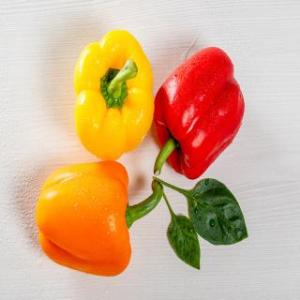bell_pepper: (36, 163, 162, 280), (156, 45, 246, 180), (76, 28, 157, 158)
